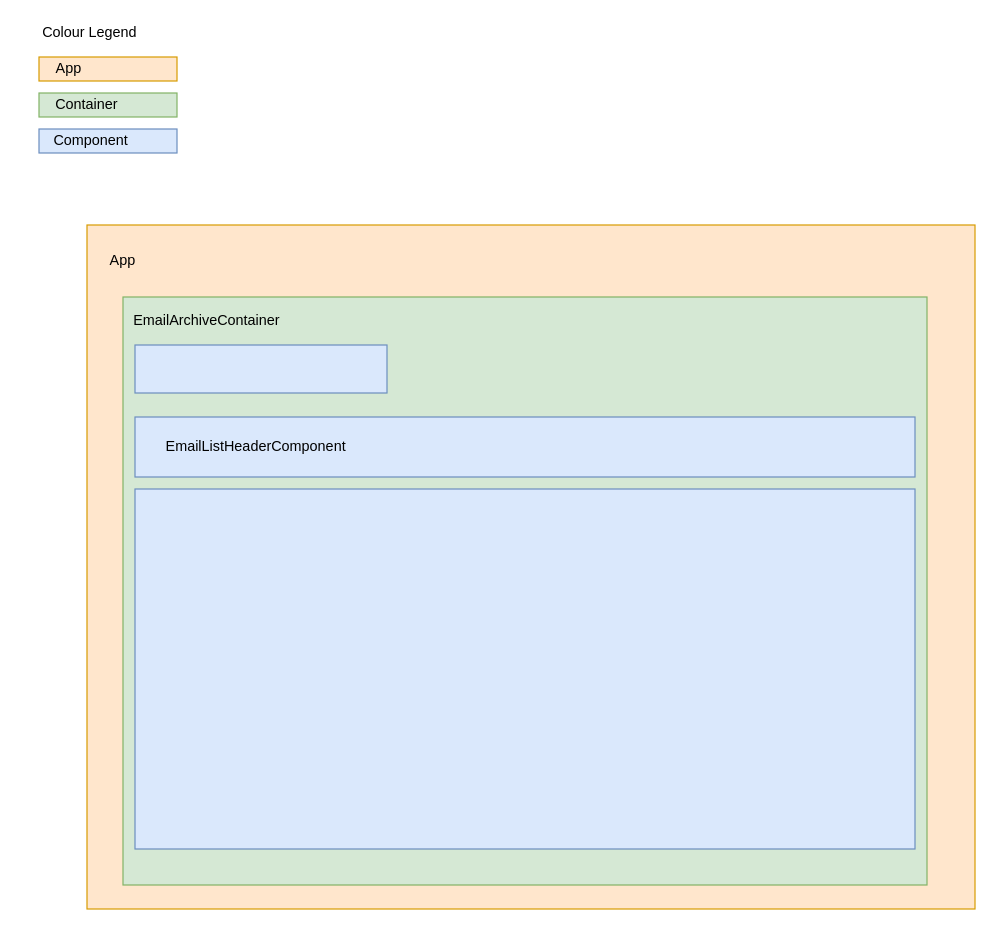
Image size: 996x930. Some labels were removed from this diagram. Each missing label, with the centre of its shape:
"DateRangePickerComponent" goes at (x=260, y=368).
"EmailListComponent" goes at (x=524, y=668).
